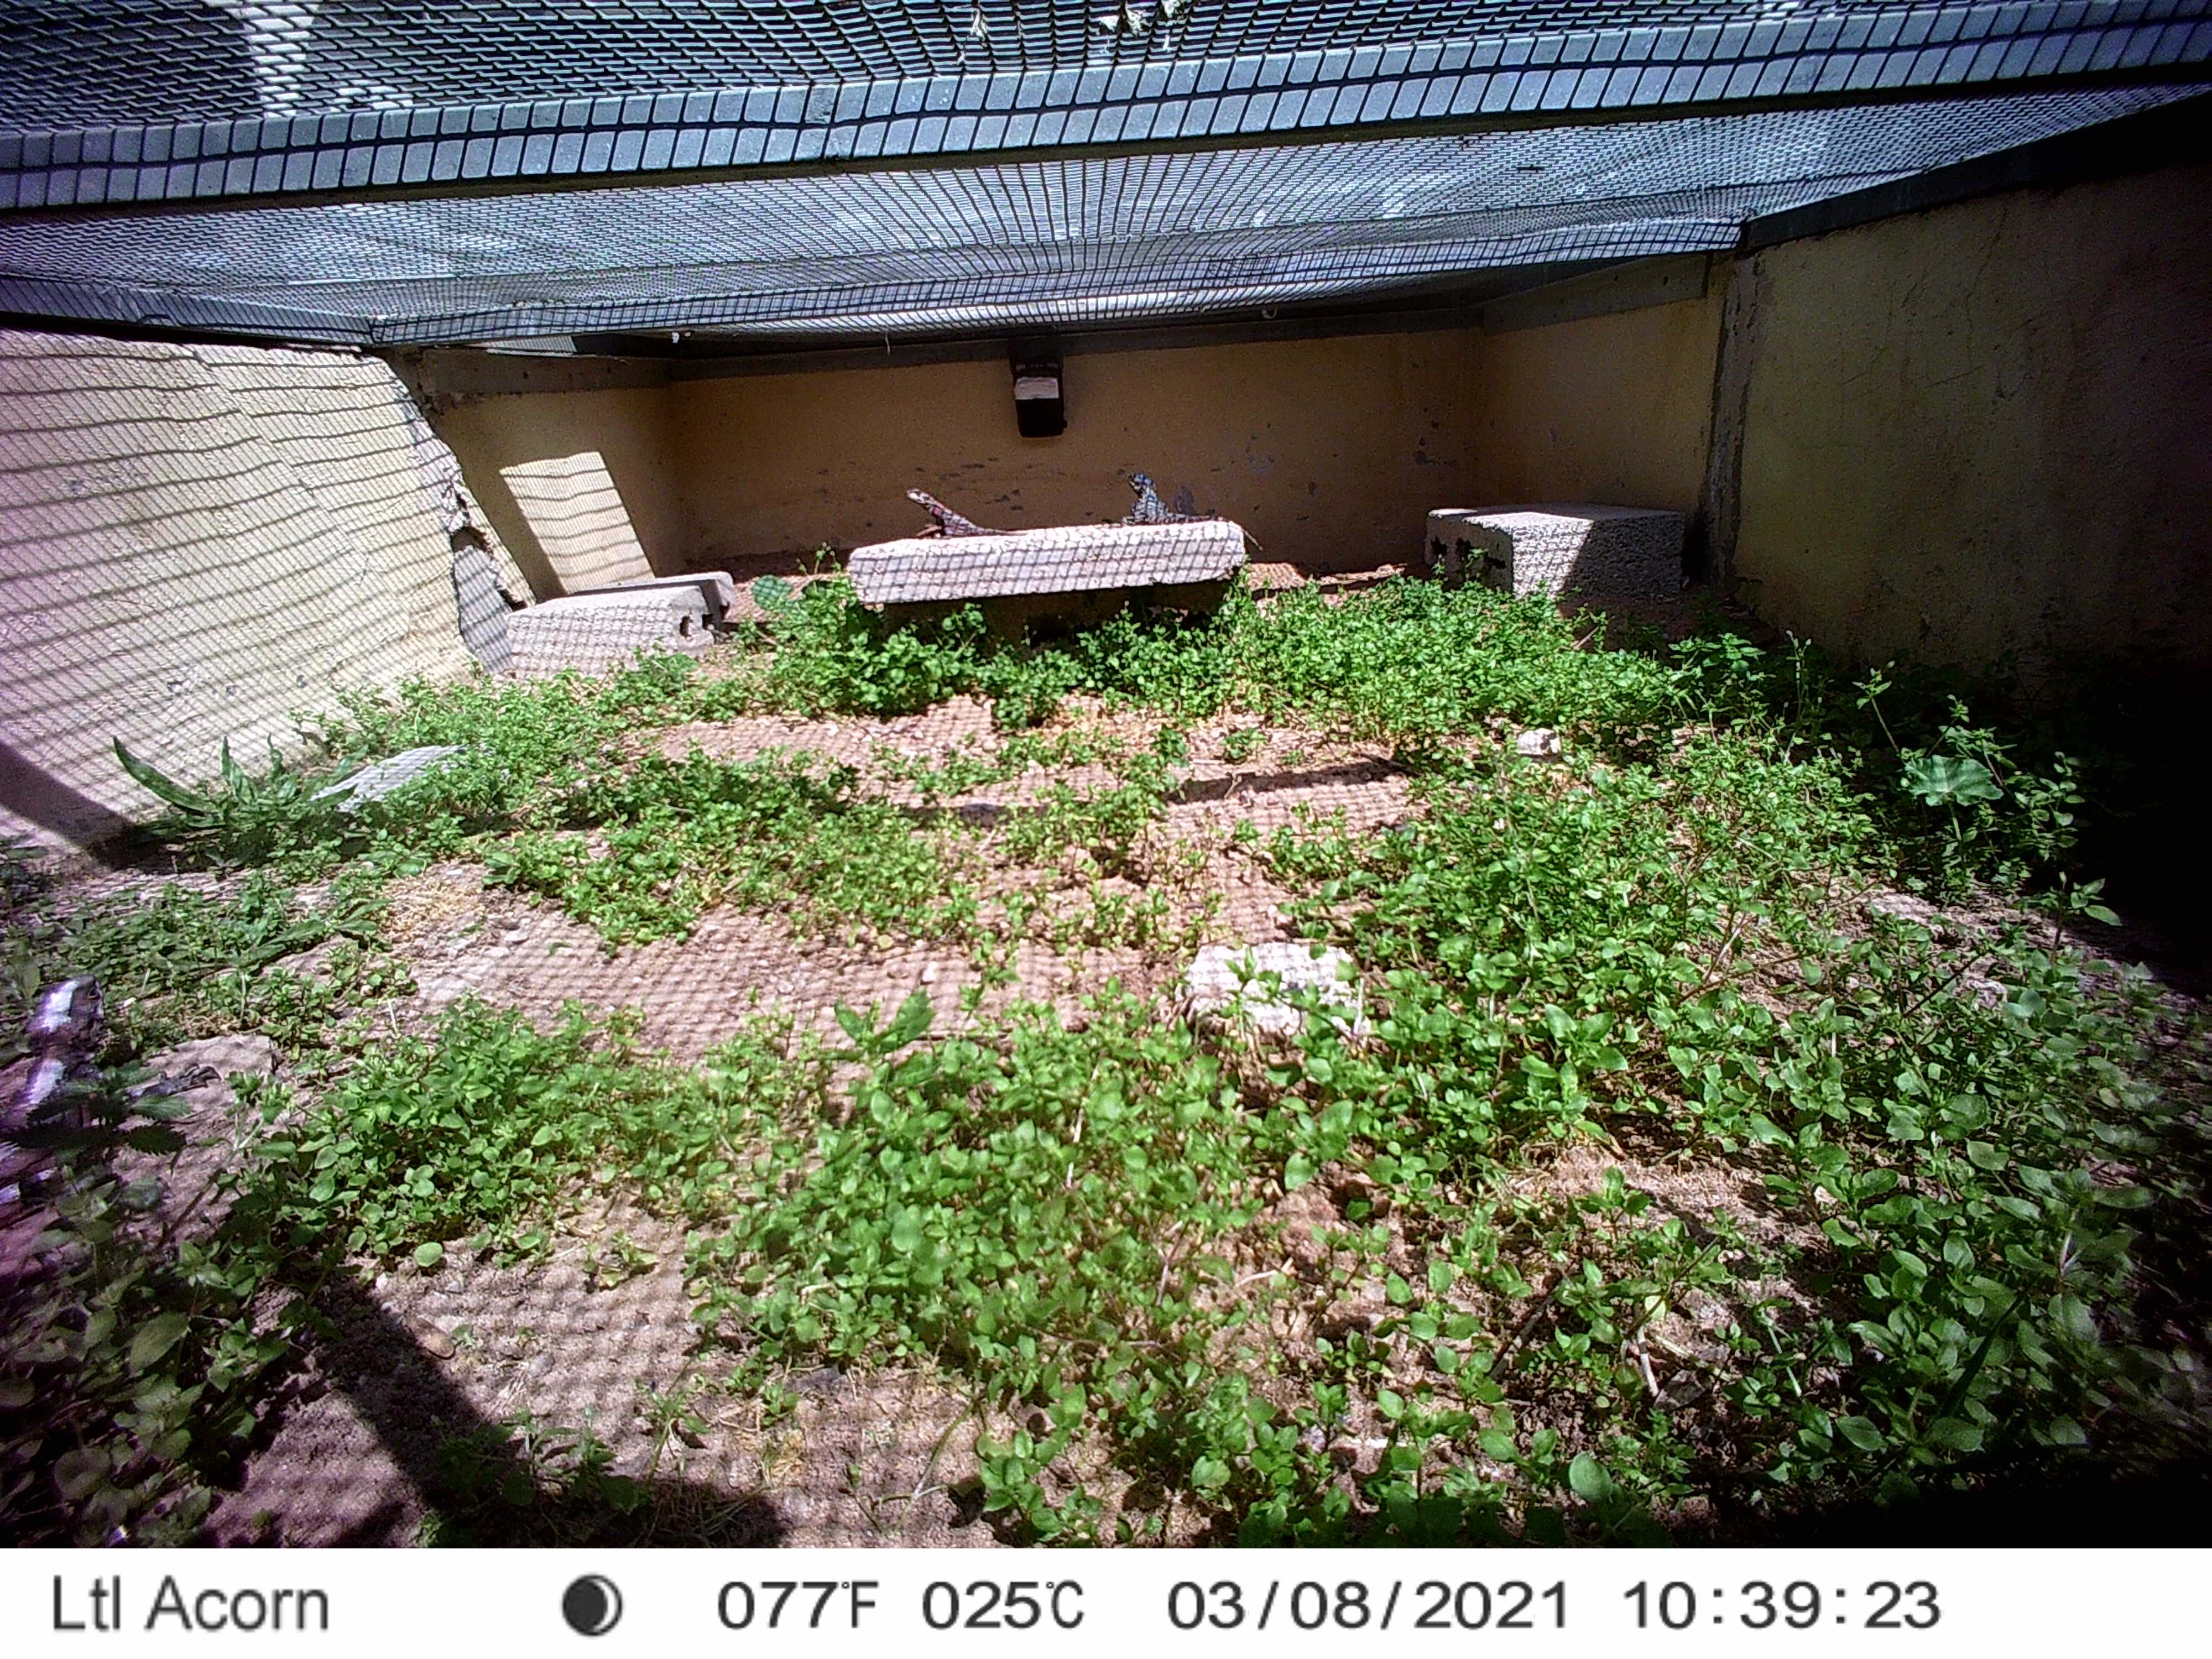lizard: (0, 971, 219, 1225), (1106, 469, 1273, 549), (899, 483, 1028, 545)
